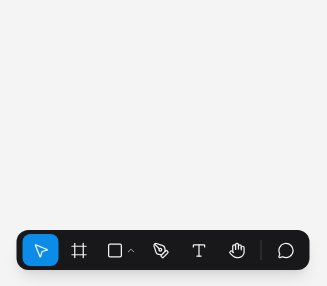
Scenario: BottomToolbar › picking rectangle from the flyout updates the tool store
What coordinates should you click on to do the following:
click the button with test id "tool-shape"
I would click on:
 (120, 250)
Its box is x1=98 y1=234 x2=140 y2=266.
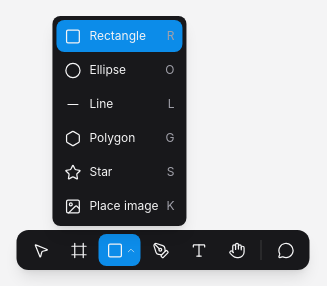
What coordinates should you click on to do the following:
click the menu item "Rectangle R"
I would click on:
 (119, 36)
Its box is x1=56 y1=20 x2=182 y2=52.
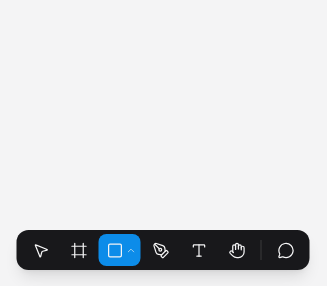
Expected: the menu with test id "shape-flyout" is gone
